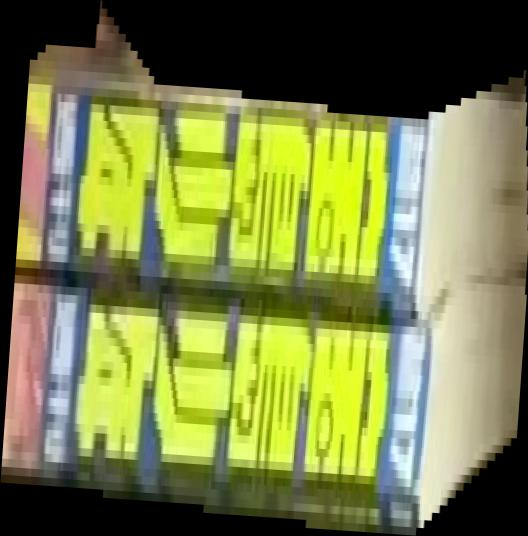flat: (1, 1, 528, 536)
